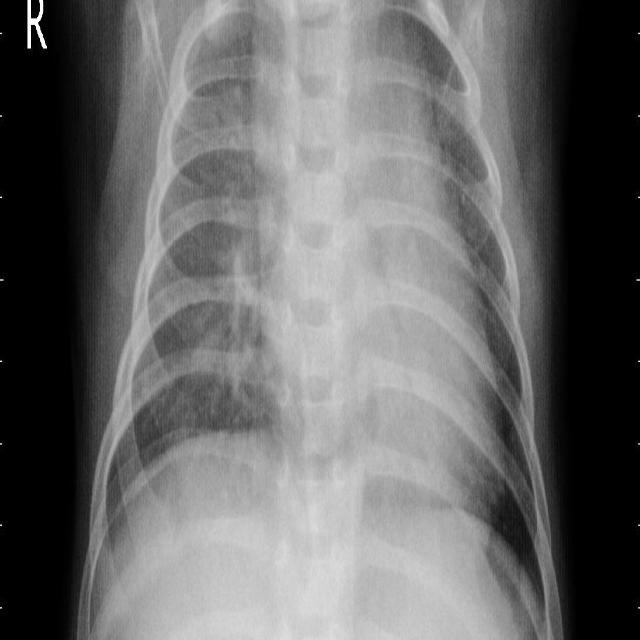high-pneumonia: (380, 8, 461, 202)
low-pneumonia: (176, 150, 260, 403)
